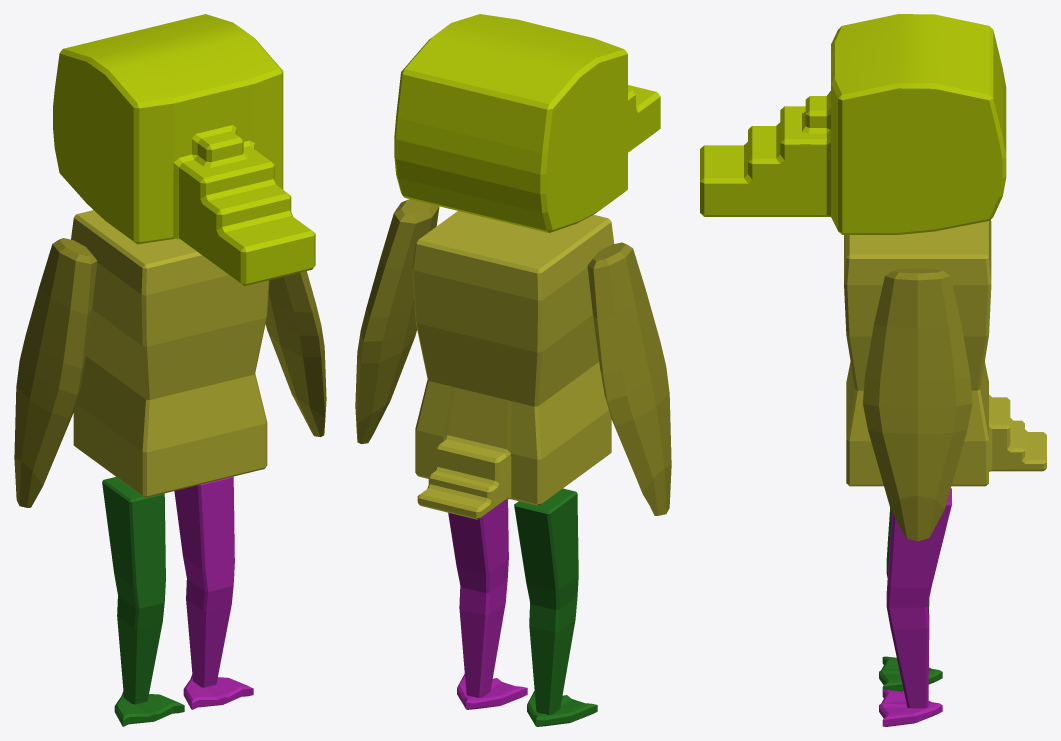
The model's file is PatoPlayer2.fbx.
The picture shows the model from 3 angles, left to right: view 1: azimuth 30°, elevation 25°; view 2: azimuth 150°, elevation 25°; view 3: azimuth 270°, elevation 25°; orthographic projection. The views are drawn at different scales.
Parts seen in each view (by area): view 1: pCube8, pCube9, pCylinder3, polySurface16, polySurface17, pCylinder2; view 2: pCube9, pCube8, pCylinder3, polySurface16, pCylinder2, polySurface17; view 3: pCube8, pCylinder2, pCube9, polySurface17, polySurface16.
Part boxes in pixels (box(x1,y1,x2,y2)): pCube8: box(53, 14, 315, 285); pCube9: box(71, 210, 269, 497); pCylinder3: box(14, 238, 97, 507); polySurface16: box(102, 477, 184, 726); polySurface17: box(174, 476, 253, 709); pCylinder2: box(265, 271, 326, 437); pCube9: box(412, 211, 614, 519); pCube8: box(394, 14, 660, 232); pCylinder3: box(587, 242, 671, 515); polySurface16: box(514, 488, 597, 726); pCylinder2: box(355, 199, 439, 443); polySurface17: box(448, 499, 527, 709); pCube8: box(700, 14, 1006, 234); pCylinder2: box(863, 268, 972, 541); pCube9: box(844, 219, 1046, 486); polySurface17: box(879, 488, 951, 726); polySurface16: box(879, 508, 942, 691).
Size of the model in its own units: 112 by 232 by 113.
